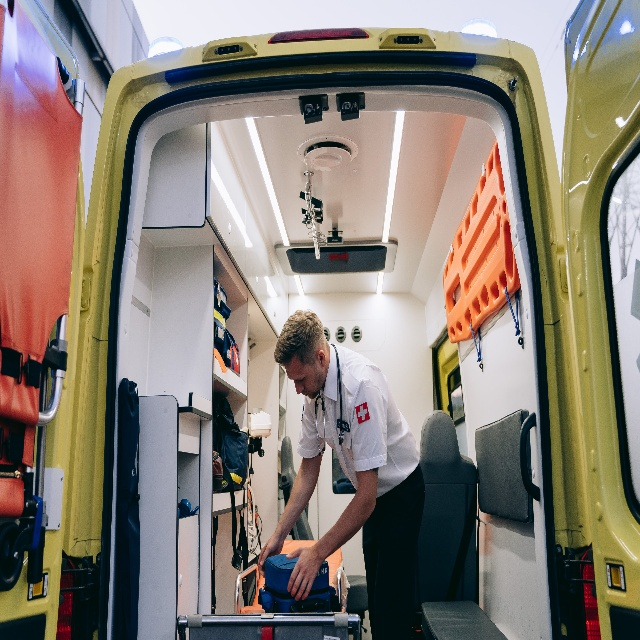Sin_guantes: (285, 543, 323, 603), (256, 536, 282, 573)
